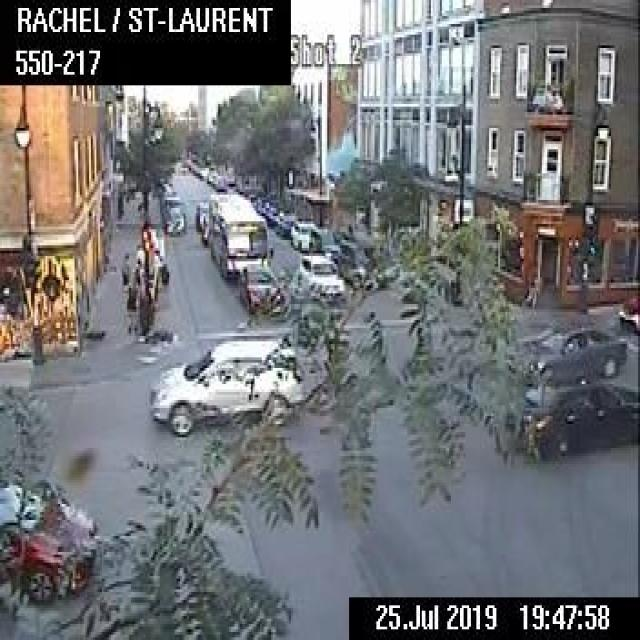bus: (207, 191, 272, 276)
pedestrian: (126, 278, 138, 336), (120, 251, 131, 296)
vehicle: (146, 330, 304, 434), (0, 474, 96, 608), (518, 383, 638, 459), (512, 321, 629, 382), (237, 263, 286, 315), (298, 252, 342, 298), (289, 218, 319, 250), (618, 293, 638, 332), (161, 206, 184, 232), (194, 200, 207, 233)
